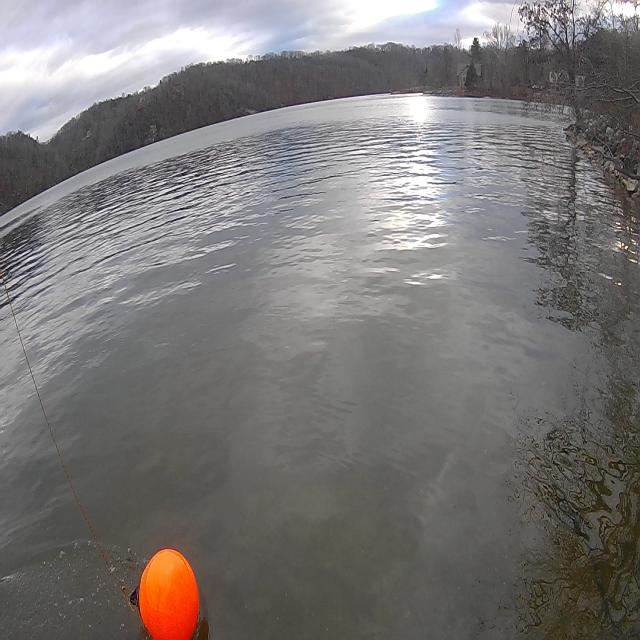Buoy: (139, 546, 200, 640)
